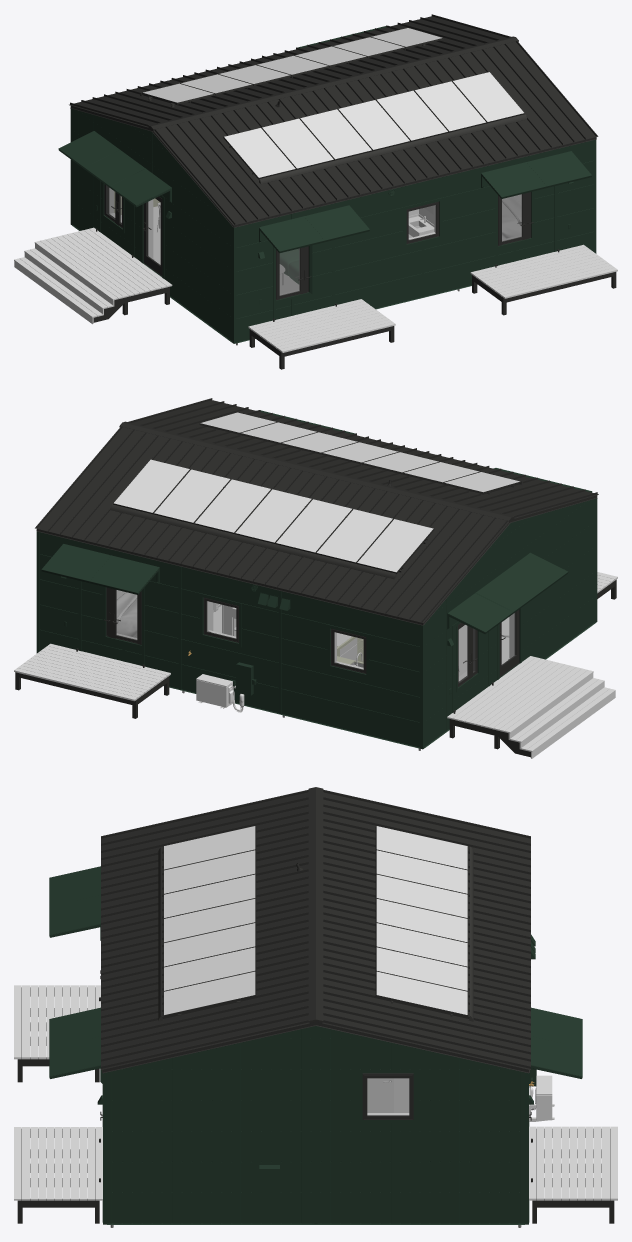
The model's file is Samara_XL8.glb.
3 renders of one model, top to bottom at view 1: azimuth 30°, elevation 25°; view 2: azimuth 150°, elevation 25°; view 3: azimuth 270°, elevation 25°, orthographic. The views are drawn at different scales.
Visible parts, largest first — view 1: Roof_2BA, Wall_e_LDRWR_2BA, SP_Right_1B, Wall_e_RightDoor_W_2BA, Deck_2BA, Awning_LDRDR_2BA, SP_Left_1B, Wall_e_LDRDR_2BA, Wall_e_RightDoor_2BA, Deck_LWRDR_2BA, Deck_LDRWR_2BA, Awning_2BA (+24 smaller); view 2: Roof_2BA, Wall_e_FrontDoor_2BA, Wall_e_FrontWindow_2BA, SP_Left_1B, Wall_e_RightDoor_W_2BA, Deck_2BA, SP_Right_1B, Deck_FrontDoor_2BA, Awning_2BA, Wall_e_RightDoor_2BA, Awning_FrontDoor_2BA, Wall_e_RightWindow_W_2BA (+21 smaller); view 3: Roof_2BA, Wall_e_W_2BA, SP_Left_1B, SP_Right_1B, Wall_e_2BA, Deck_FrontDoor_2BA, Deck_LDRWR_2BA, Awning_LDRDR_2BA, Deck_LWRDR_2BA, Awning_FrontDoor_2BA, Frame_Around_2BA, Frame_DW_2BA (+11 smaller).
Part boxes in pixels (bbox=[...]): Roof_2BA: bbox=[69, 14, 598, 227]; Wall_e_LDRWR_2BA: bbox=[236, 143, 593, 341]; SP_Right_1B: bbox=[223, 71, 524, 179]; Wall_e_RightDoor_W_2BA: bbox=[72, 109, 232, 340]; Deck_2BA: bbox=[14, 227, 172, 324]; Awning_LDRDR_2BA: bbox=[259, 151, 591, 253]; SP_Left_1B: bbox=[142, 27, 443, 104]; Wall_e_LDRDR_2BA: bbox=[236, 140, 593, 340]; Wall_e_RightDoor_2BA: bbox=[74, 110, 230, 339]; Deck_LWRDR_2BA: bbox=[248, 299, 395, 352]; Deck_LDRWR_2BA: bbox=[471, 244, 617, 298]; Awning_2BA: bbox=[58, 131, 171, 207]; Roof_2BA: bbox=[35, 398, 598, 625]; Wall_e_FrontDoor_2BA: bbox=[40, 532, 419, 747]; Wall_e_FrontWindow_2BA: bbox=[40, 535, 419, 746]; SP_Left_1B: bbox=[113, 459, 434, 573]; Wall_e_RightDoor_W_2BA: bbox=[424, 499, 595, 746]; Deck_2BA: bbox=[447, 656, 615, 758]; SP_Right_1B: bbox=[199, 412, 520, 494]; Deck_FrontDoor_2BA: bbox=[14, 643, 170, 701]; Awning_2BA: bbox=[447, 552, 568, 634]; Wall_e_RightDoor_2BA: bbox=[426, 499, 592, 745]; Awning_FrontDoor_2BA: bbox=[41, 544, 159, 594]; Wall_e_RightWindow_W_2BA: bbox=[424, 542, 494, 745]; Roof_2BA: bbox=[101, 787, 530, 1073]; Wall_e_W_2BA: bbox=[107, 1026, 524, 1223]; SP_Left_1B: bbox=[375, 825, 468, 1017]; SP_Right_1B: bbox=[163, 825, 256, 1017]; Wall_e_2BA: bbox=[112, 1027, 519, 1223]; Deck_FrontDoor_2BA: bbox=[529, 1126, 617, 1200]; Deck_LDRWR_2BA: bbox=[14, 1127, 102, 1200]; Awning_LDRDR_2BA: bbox=[49, 866, 102, 1083]; Deck_LWRDR_2BA: bbox=[14, 985, 100, 1057]; Awning_FrontDoor_2BA: bbox=[529, 1007, 582, 1083]; Frame_Around_2BA: bbox=[102, 1072, 529, 1224]; Frame_DW_2BA: bbox=[314, 1026, 417, 1223].
Size of the model in its own units: 12.08 by 4.26 by 10.82.
